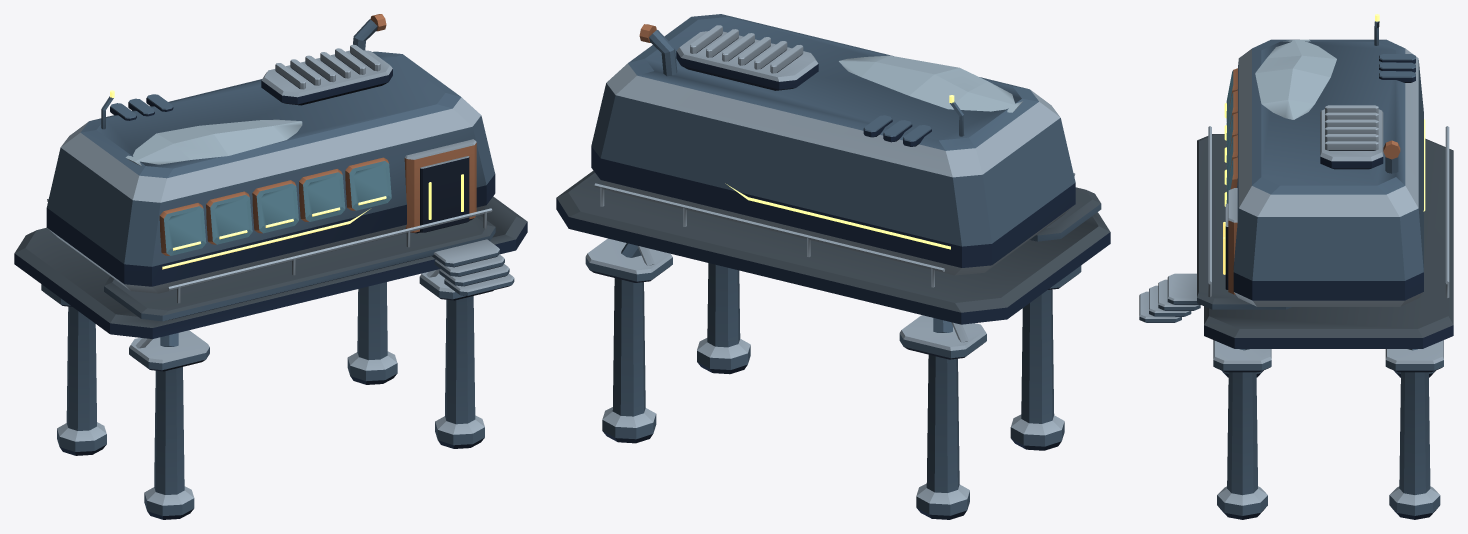
Rendered from frost-optical-lab.glb.
3 renders of one model, left to right at view 1: azimuth 30°, elevation 25°; view 2: azimuth 150°, elevation 25°; view 3: azimuth 270°, elevation 25°, orthographic. The views are drawn at different scales.
Visible parts, largest first — view 1: frost-optical-lab; view 2: frost-optical-lab; view 3: frost-optical-lab.
Boxes of the visible parts, left/top/right/bottom form: frost-optical-lab: left=14, top=14, right=527, bottom=519; frost-optical-lab: left=556, top=14, right=1110, bottom=519; frost-optical-lab: left=1139, top=14, right=1453, bottom=519.
Size of the model in its own units: 10.08 by 8.57 by 6.67.
